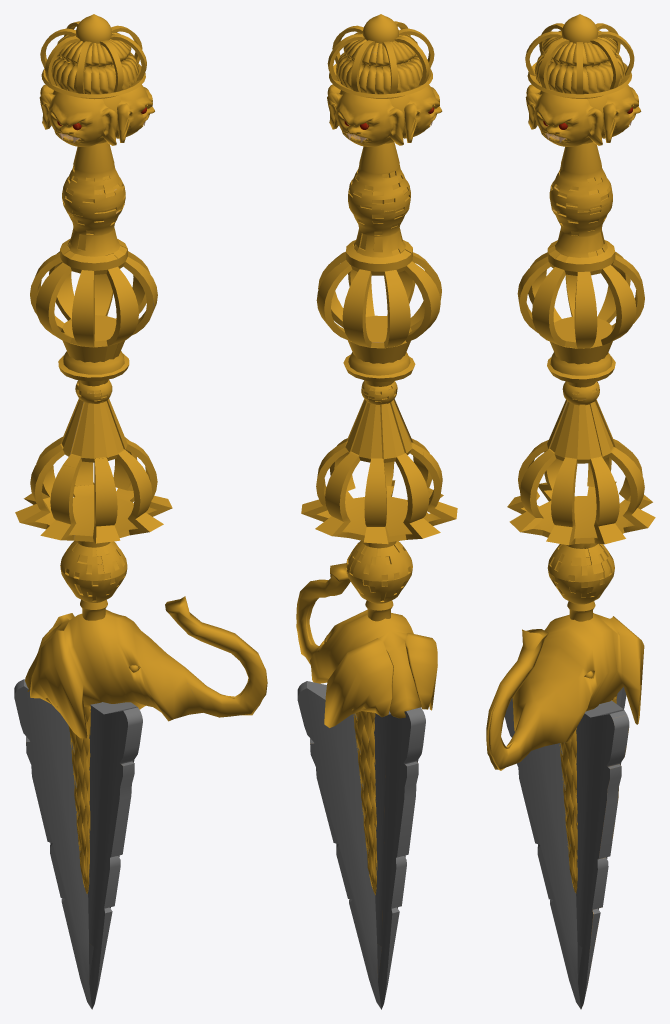
Rendered from dagger.glb.
The picture shows the model from 3 angles, left to right: view 1: azimuth 30°, elevation 25°; view 2: azimuth 150°, elevation 25°; view 3: azimuth 270°, elevation 25°; orthographic projection.
Visible parts, largest first — view 1: 6. BLADE.005; view 2: 6. BLADE.005; view 3: 6. BLADE.005.
Part boxes in pixels (x1=…): 6. BLADE.005: x1=14, y1=14, x2=267, y2=1009; 6. BLADE.005: x1=296, y1=14, x2=457, y2=1009; 6. BLADE.005: x1=486, y1=14, x2=655, y2=1009.
Bounding box in the file's own units: 10.26 × 49.8 × 7.67.
Materials: 4 (4 with a texture image).
